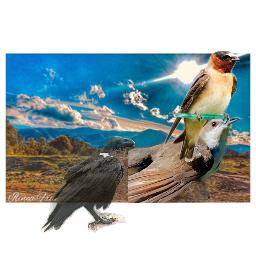Crow: (40, 136, 135, 233)
Cuckoo: (128, 117, 240, 203)
Swallow: (163, 50, 240, 160)
